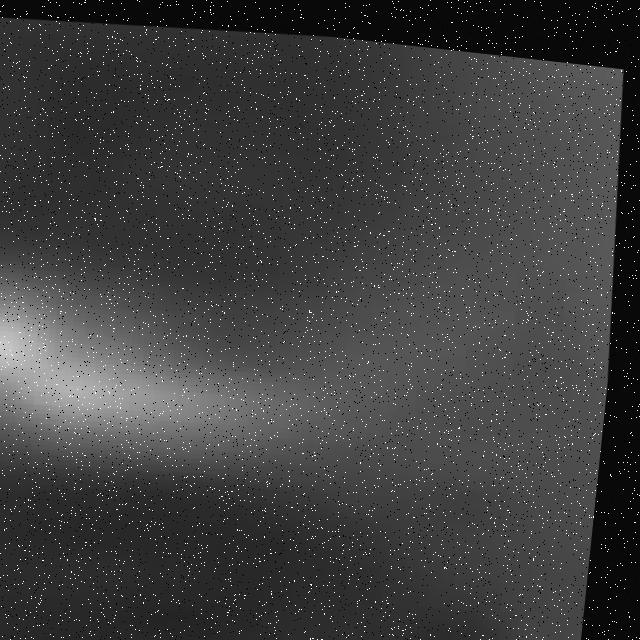person: (1, 220, 452, 525)
